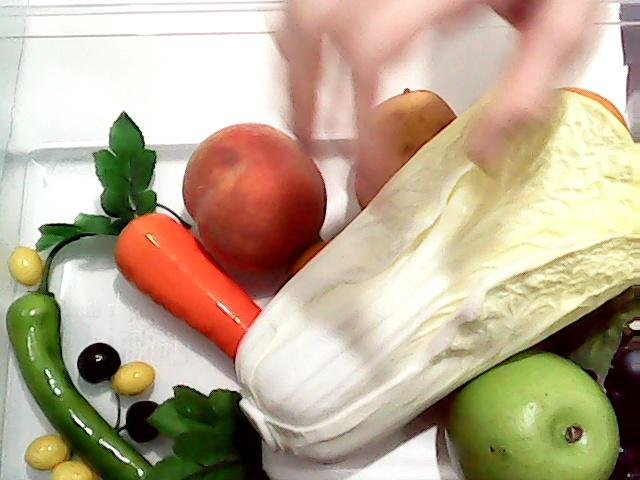apple: (438, 347, 621, 480), (436, 344, 612, 476)
carrot: (35, 106, 265, 360)
lemon: (548, 72, 640, 134)
mango: (293, 240, 339, 284)
napa cabbage: (235, 78, 640, 461)
peach: (184, 118, 330, 274)
pepper: (0, 235, 180, 480)
potato: (354, 86, 458, 210)
